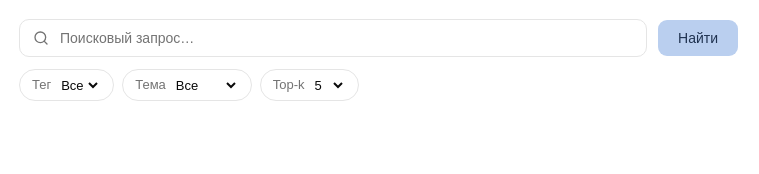
Test: пустой результат — «Ничего не найдено»
Type "ничто" into the field with placeholder "Поисковый запрос…".
click(333, 38); type("ничто")  # box [19,19,647,57]
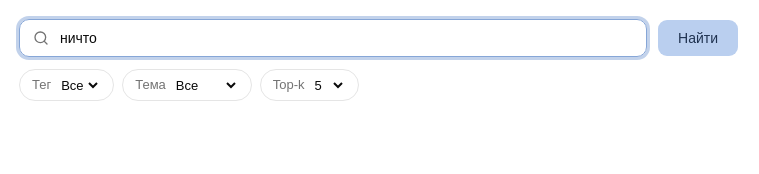
Click the button "Найти".
click(698, 38)  # box [657,19,739,57]
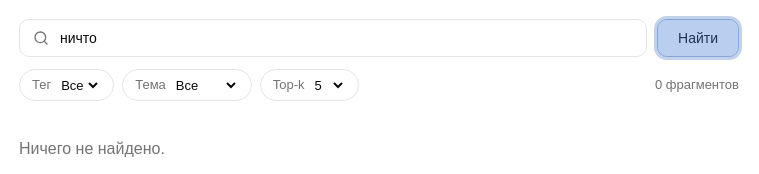
Now the text "Ничего не найдено." is shown, box [19,140,165,157]
